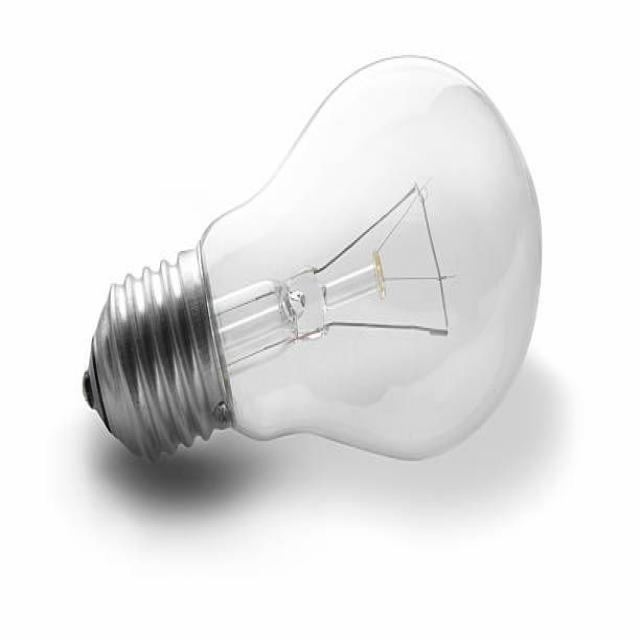electronic: (80, 52, 542, 466)
